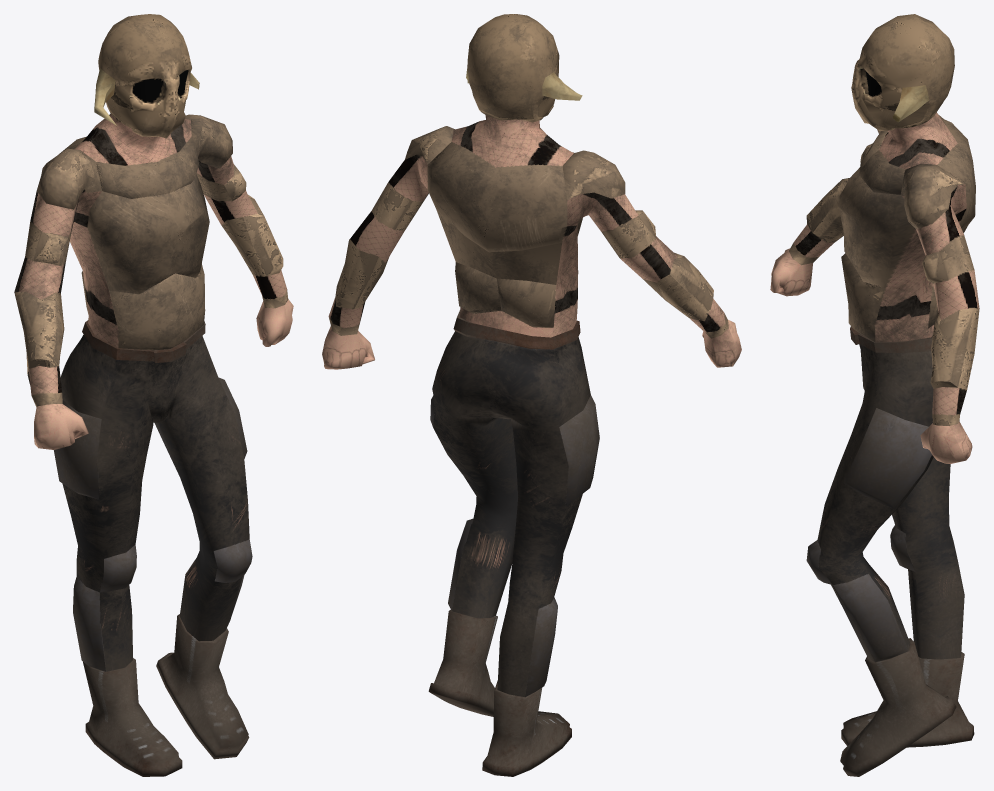
File: Anim_andar_npc1.0030.obj
3 renders of one model, left to right at view 1: azimuth 30°, elevation 25°; view 2: azimuth 150°, elevation 25°; view 3: azimuth 270°, elevation 25°, orthographic.
Parts seen in each view (by area): view 1: Anim_andar_npc1; view 2: Anim_andar_npc1; view 3: Anim_andar_npc1.
Boxes of the visible parts, left/top/right/bottom form: Anim_andar_npc1: left=14, top=14, right=293, bottom=776; Anim_andar_npc1: left=322, top=14, right=741, bottom=776; Anim_andar_npc1: left=770, top=14, right=979, bottom=776.
Bounding box in the file's own units: 4.63 × 9.69 × 2.53.
